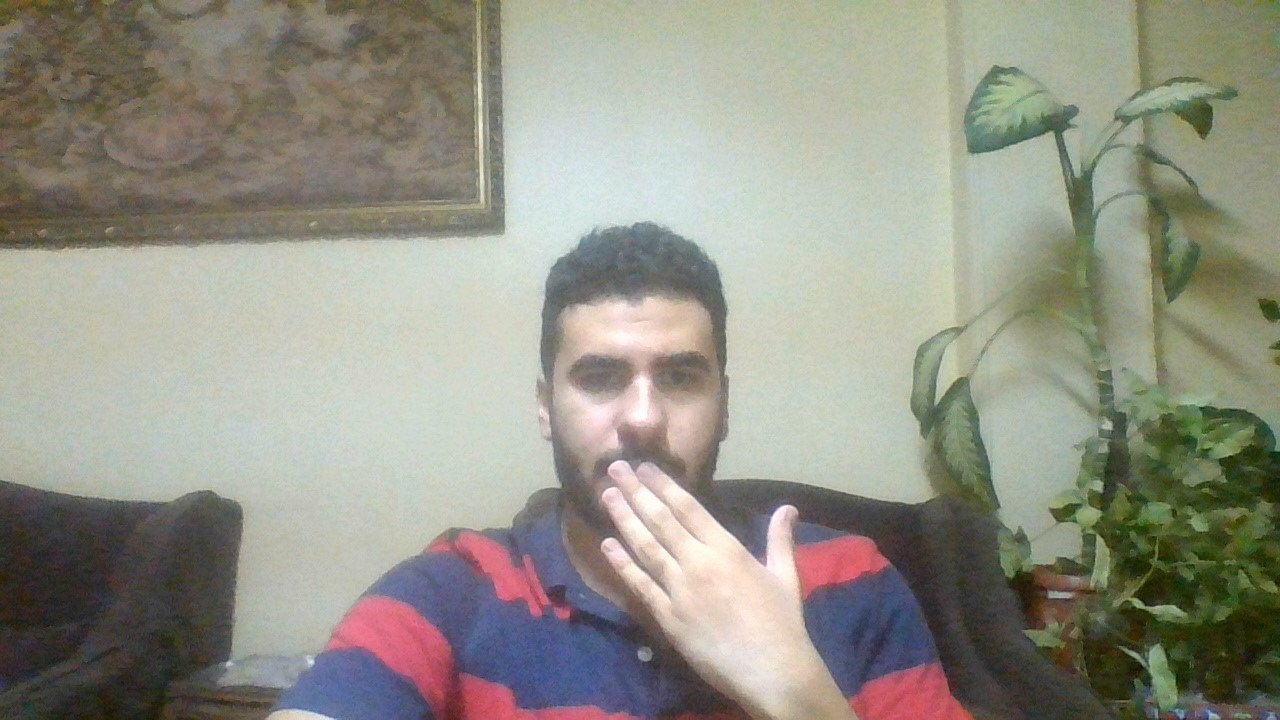thankyou: (578, 454, 852, 720)
